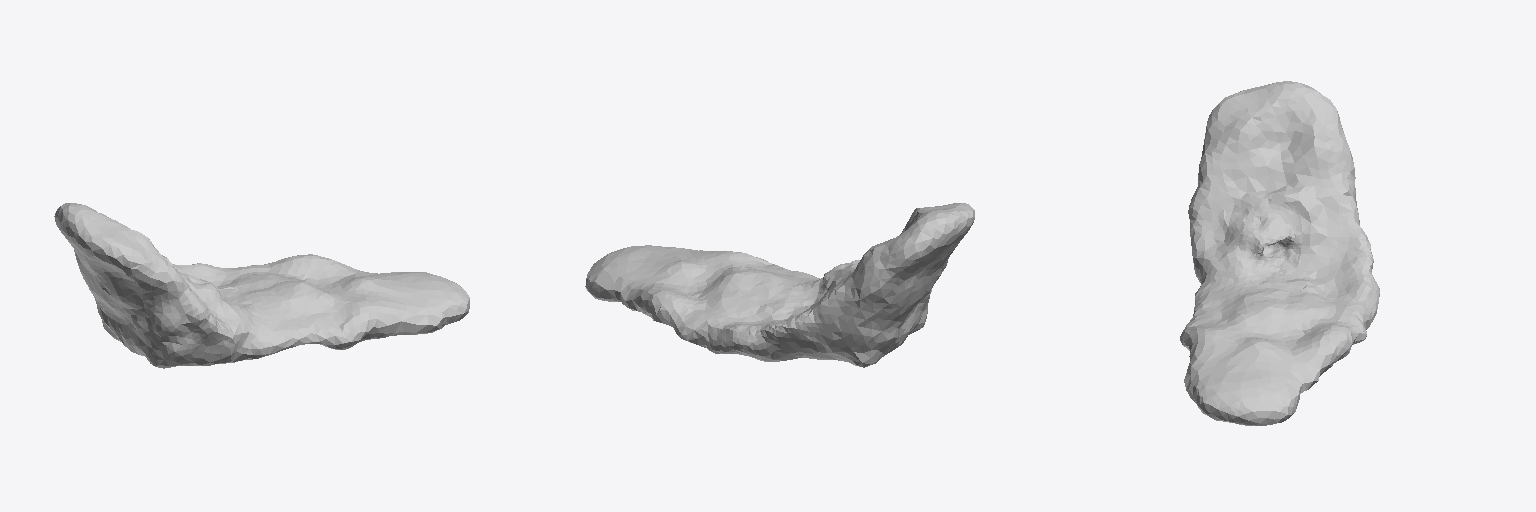
The model's file is Floor.obj.
3 renders of one model, left to right at view 1: azimuth 30°, elevation 25°; view 2: azimuth 150°, elevation 25°; view 3: azimuth 270°, elevation 25°, orthographic.
Parts seen in each view (by area): view 1: Floor_Icosphere; view 2: Floor_Icosphere; view 3: Floor_Icosphere.
Part boxes in pixels (x1,y1,x2,y2): Floor_Icosphere: (54,203,469,368); Floor_Icosphere: (585,203,974,367); Floor_Icosphere: (1180,81,1379,425).
Size of the model in its own units: 77.85 by 34.15 by 35.59.